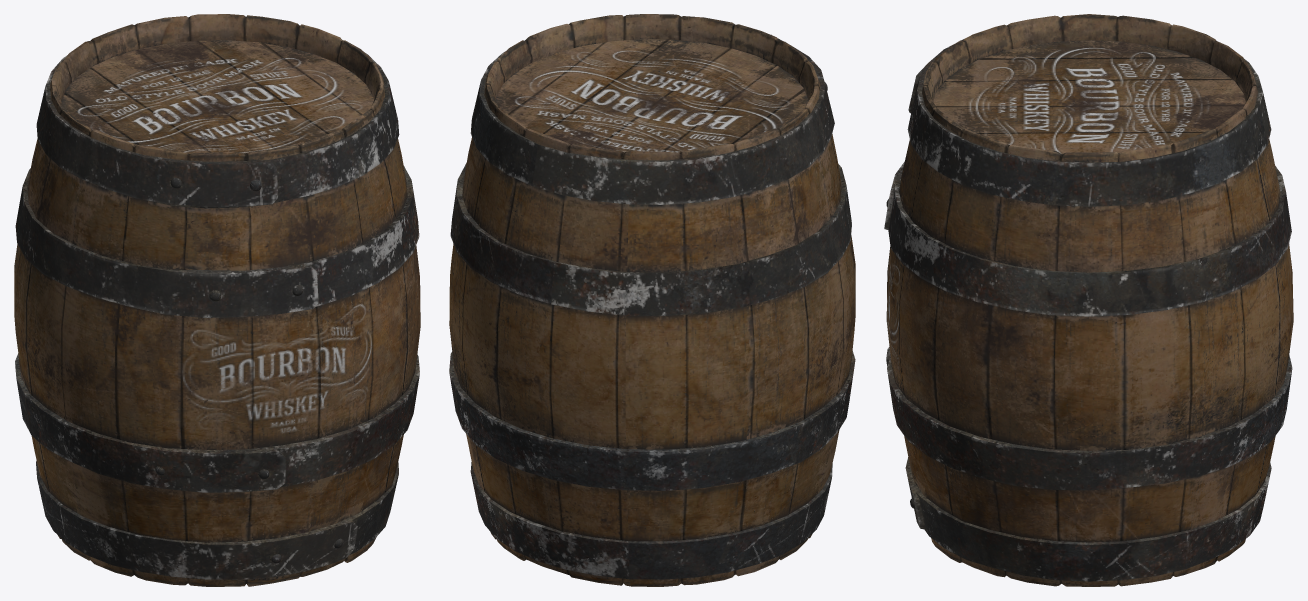
The model's file is Prop_WhiskeyBarrel.fbx.
3 views of the same model, side by side, from view 1: azimuth 30°, elevation 25°; view 2: azimuth 150°, elevation 25°; view 3: azimuth 270°, elevation 25° (orthographic).
Parts seen in each view (by area): view 1: Prop_WhiskeyBarrel; view 2: Prop_WhiskeyBarrel; view 3: Prop_WhiskeyBarrel.
Boxes of the visible parts, left/top/right/bottom form: Prop_WhiskeyBarrel: left=14, top=14, right=420, bottom=586; Prop_WhiskeyBarrel: left=449, top=14, right=855, bottom=586; Prop_WhiskeyBarrel: left=884, top=14, right=1293, bottom=586.
Size of the model in its own units: 36.16 by 42.71 by 36.32.
